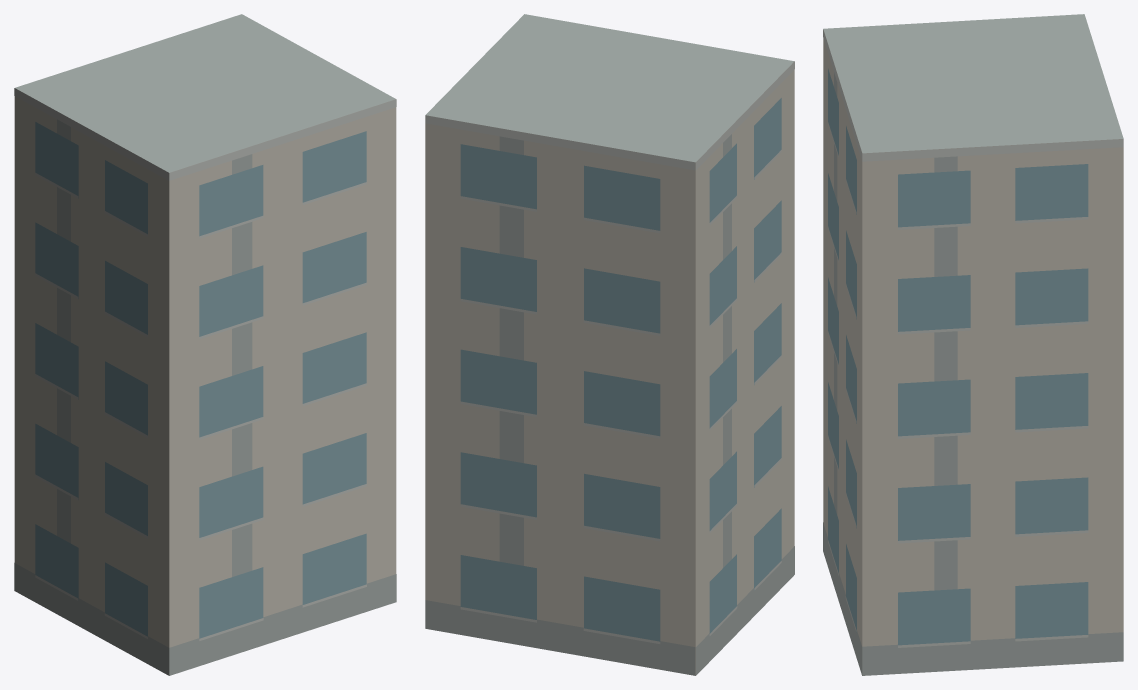
The model's file is residential-f63fb9d9-e4e2-43f9-84a4-c11b37d8fd28.glb.
The picture shows the model from 3 angles, left to right: view 1: azimuth 30°, elevation 25°; view 2: azimuth 150°, elevation 25°; view 3: azimuth 270°, elevation 25°; orthographic projection. The views are drawn at different scales.
Visible parts, largest first — view 1: residential-f63fb9d9-e4e2-43f9-84a4-c11b37d8fd28.tmp; view 2: residential-f63fb9d9-e4e2-43f9-84a4-c11b37d8fd28.tmp; view 3: residential-f63fb9d9-e4e2-43f9-84a4-c11b37d8fd28.tmp.
Part boxes in pixels (bbox=[...]): residential-f63fb9d9-e4e2-43f9-84a4-c11b37d8fd28.tmp: bbox=[14, 14, 396, 675]; residential-f63fb9d9-e4e2-43f9-84a4-c11b37d8fd28.tmp: bbox=[425, 14, 794, 675]; residential-f63fb9d9-e4e2-43f9-84a4-c11b37d8fd28.tmp: bbox=[823, 14, 1123, 675].
Size of the model in its own units: 8.73 by 15.25 by 7.96.
